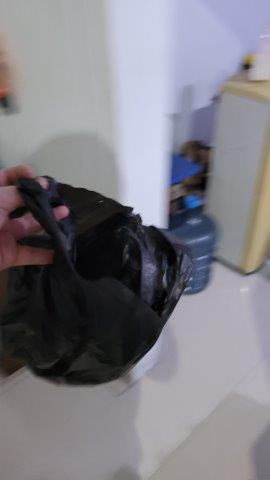plastik: (1, 174, 192, 389)
